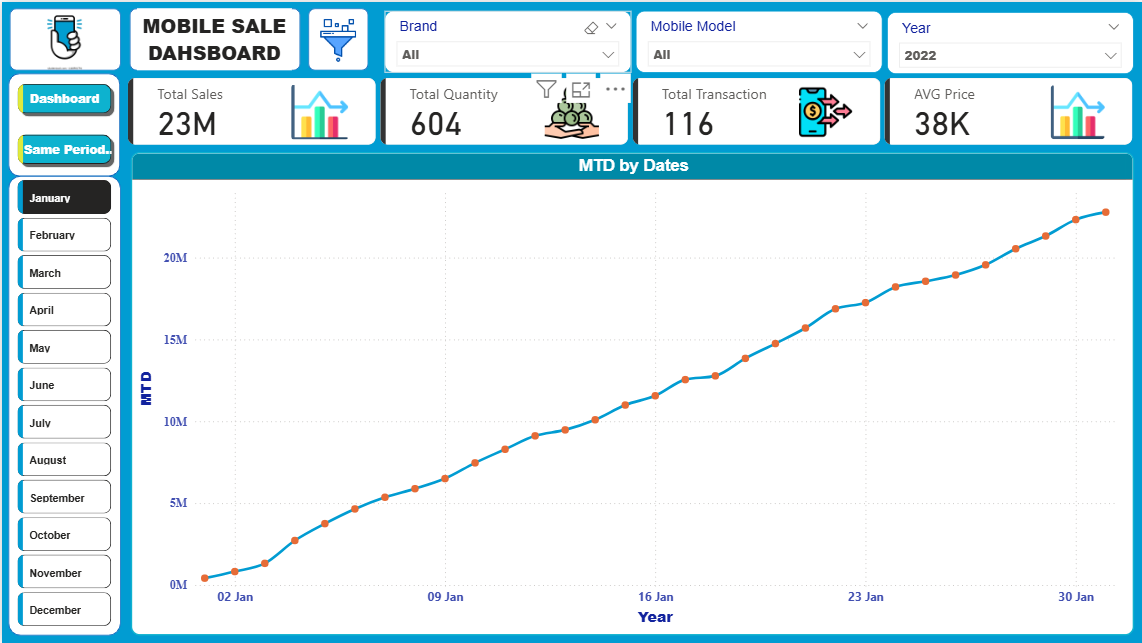

Layout of this report page (visuals, bound fields, positions):
{"tool":"powerbi","page":{"name":"MTD Report","canvas":[1280,720],"ordinal":1},"visuals":[{"type":"shape","box":[8.2,6.9,124.9,70],"z":0},{"type":"image","box":[6.9,6.9,126.2,70],"z":1000},{"type":"shape","box":[7.2,79.6,125.5,115.8],"z":2000},{"type":"shape","box":[6.9,194.9,126.2,516],"z":3000},{"type":"advancedSlicerVisual","fields":{"Values":["Calendar.Dates.Variation.Date Hierarchy.Month"]},"box":[12.3,194.9,115.3,516],"z":4000},{"type":"cardVisual","fields":{"Data":["Sales Data.Total Sales","Sales Data.Total Quantity","Sales Data.Total Transaction","Sales Data.AVG Price"]},"box":[133.9,77.2,1146.1,91.7],"z":5000},{"type":"slicer","fields":{"Values":["Calendar.Dates.Variation.Date Hierarchy.Year","Calendar.Dates.Variation.Date Hierarchy.Quarter","Calendar.Dates.Variation.Date Hierarchy.Month","Calendar.Dates.Variation.Date Hierarchy.Day"]},"box":[992.1,11,277.2,70],"z":6000},{"type":"slicer","fields":{"Values":["Sales Data.Mobile Model"]},"box":[710.8,9.6,277.2,70],"z":7000},{"type":"slicer","fields":{"Values":["Sales Data.Brand"]},"box":[429.5,9.6,277.2,70],"z":8000},{"type":"shape","box":[343.8,7.2,67.6,70],"z":9000},{"type":"image","box":[343.8,18.1,67.6,49.5],"z":10000},{"type":"shape","box":[143.6,7.2,191.8,70],"z":11000},{"type":"textbox","box":[152,7.2,173.7,70],"z":12000},{"type":"lineChart","title":"MTD by Dates","fields":{"Y":["Sales Data.MTD"],"Category":["Calendar.Dates.Variation.Date Hierarchy.Year","Calendar.Dates.Variation.Date Hierarchy.Quarter","Calendar.Dates.Variation.Date Hierarchy.Month","Calendar.Dates.Variation.Date Hierarchy.Day"]},"box":[144.1,168.8,1125.2,542],"z":13000},{"type":"pageNavigator","box":[12.3,86.4,115.3,101.5],"z":14000}]}

Visuals, with their boxes in screenshot pixels (x1, y1, x2, y2), scaled from the page's 1280x720 canvas onto the 1142x643 screenshot:
shape: x1=7, y1=6, x2=119, y2=69
image: x1=6, y1=6, x2=119, y2=69
shape: x1=6, y1=71, x2=118, y2=175
shape: x1=6, y1=174, x2=119, y2=635
advancedSlicerVisual - Calendar.Dates.Variation.Date Hierarchy.Month: x1=11, y1=174, x2=114, y2=635
cardVisual - Sales Data.Total Sales x Sales Data.Total Quantity: x1=119, y1=69, x2=1141, y2=151
slicer - Calendar.Dates.Variation.Date Hierarchy.Year x Calendar.Dates.Variation.Date Hierarchy.Quarter: x1=885, y1=10, x2=1132, y2=72
slicer - Sales Data.Mobile Model: x1=634, y1=9, x2=881, y2=71
slicer - Sales Data.Brand: x1=383, y1=9, x2=631, y2=71
shape: x1=307, y1=6, x2=367, y2=69
image: x1=307, y1=16, x2=367, y2=60
shape: x1=128, y1=6, x2=299, y2=69
textbox: x1=136, y1=6, x2=291, y2=69
"MTD by Dates" lineChart: x1=129, y1=151, x2=1132, y2=635
pageNavigator: x1=11, y1=77, x2=114, y2=168
